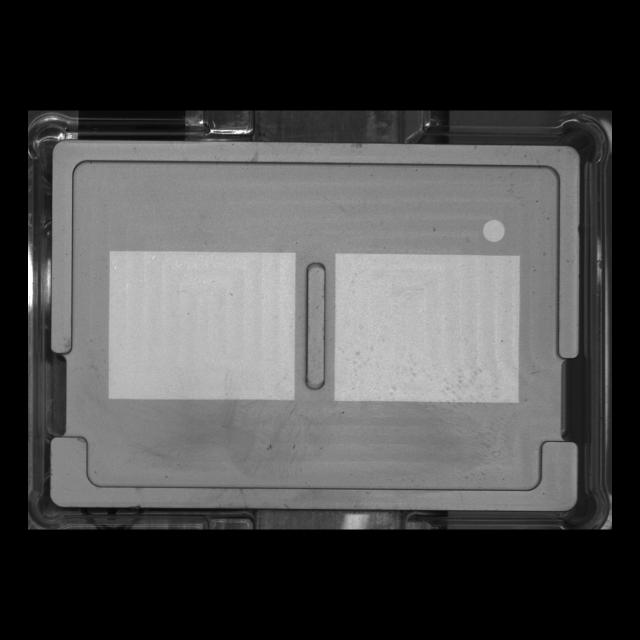door: (41, 424, 587, 522)
point: (478, 214, 511, 248)
